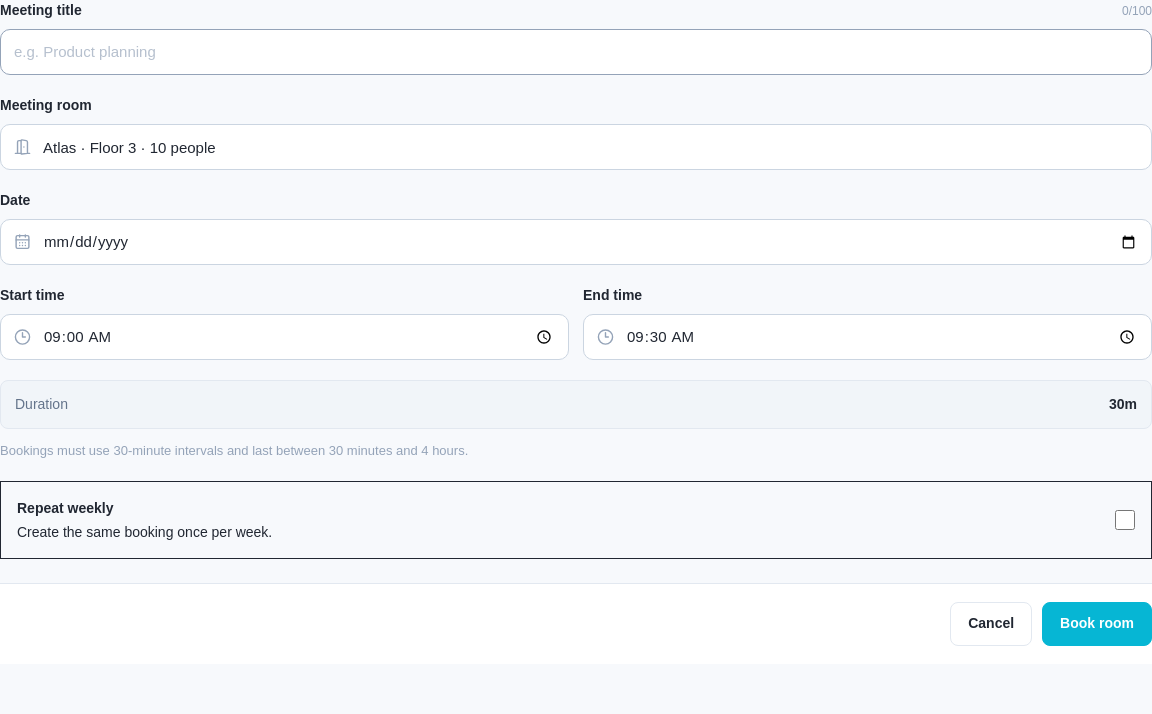
Test: BookingForm recurrence › shows the occurrence count when recurrence is enabled
The image size is (1152, 714).
Click the checkbox labelled "Repeat weekly Create the same booking once per week.".
click(1125, 520)  # box [1115,510,1135,530]
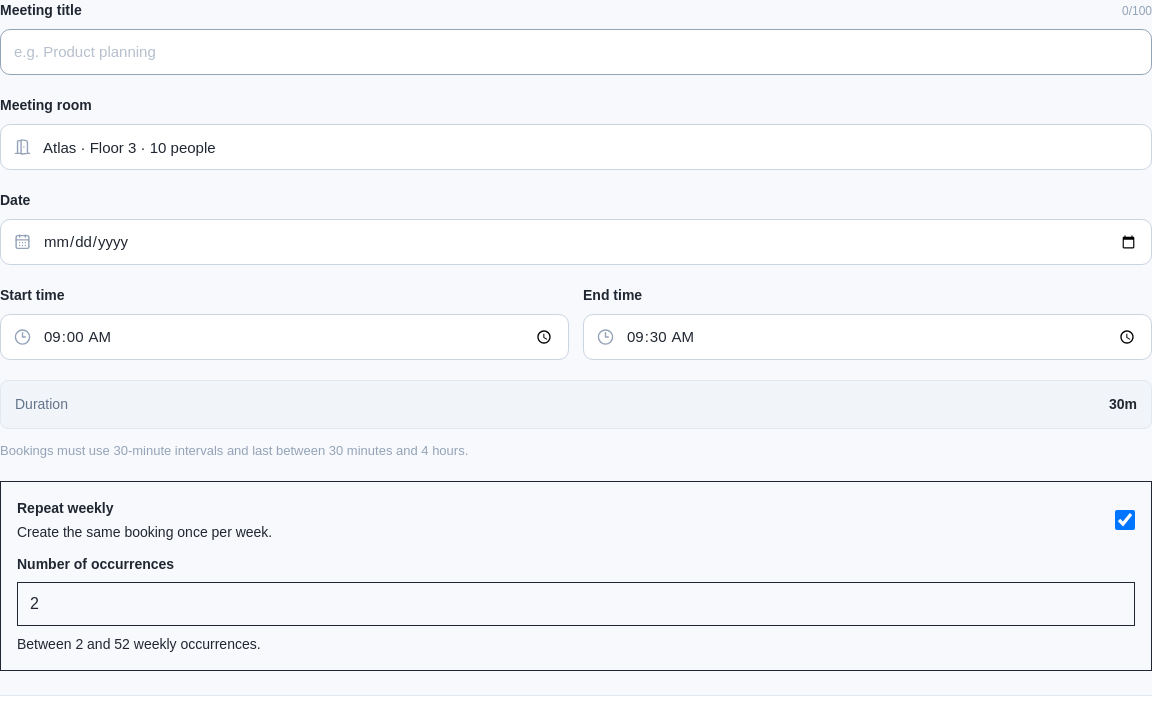
Result: the number field is shown at [17,582,1135,626]
Result: the text "Between 2 and 52 weekly occurrences." is shown at [17,636,261,652]
